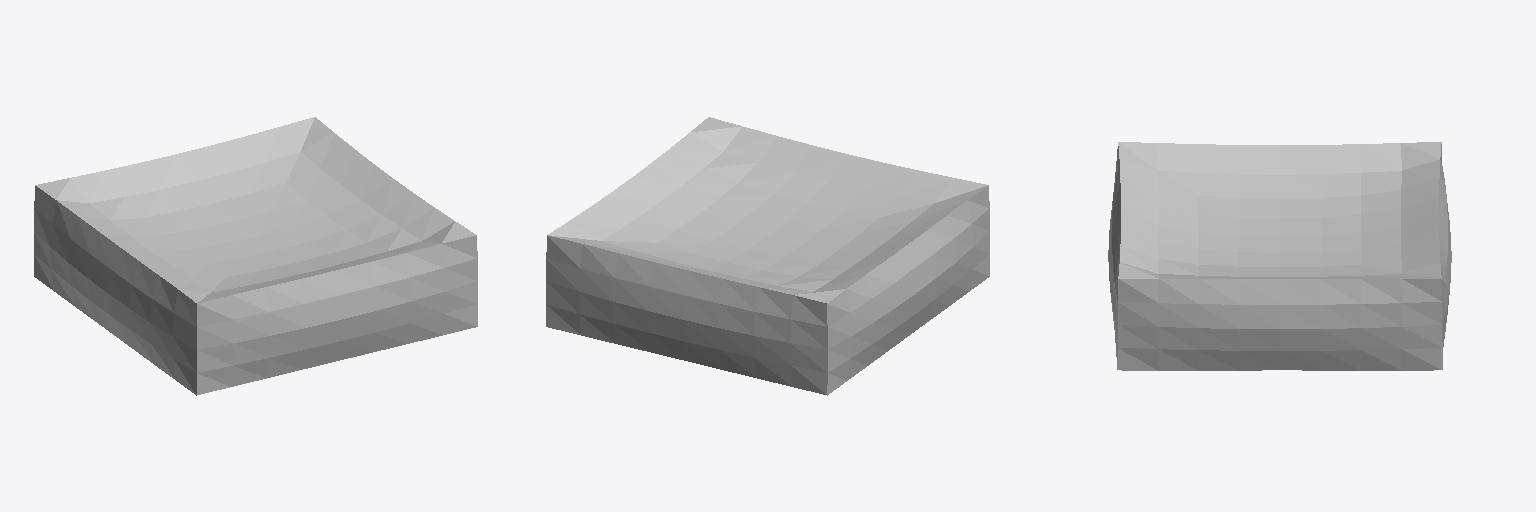
File: coussin.obj
3 renders of one model, left to right at view 1: azimuth 30°, elevation 25°; view 2: azimuth 150°, elevation 25°; view 3: azimuth 270°, elevation 25°, orthographic.
Parts seen in each view (by area): view 1: Cube; view 2: Cube; view 3: Cube.
Boxes of the visible parts, x1=… form: Cube: x1=34, y1=117, x2=477, y2=395; Cube: x1=546, y1=117, x2=989, y2=395; Cube: x1=1108, y1=142, x2=1451, y2=370.
Size of the model in its own units: 2.11 by 0.6218 by 2.11.